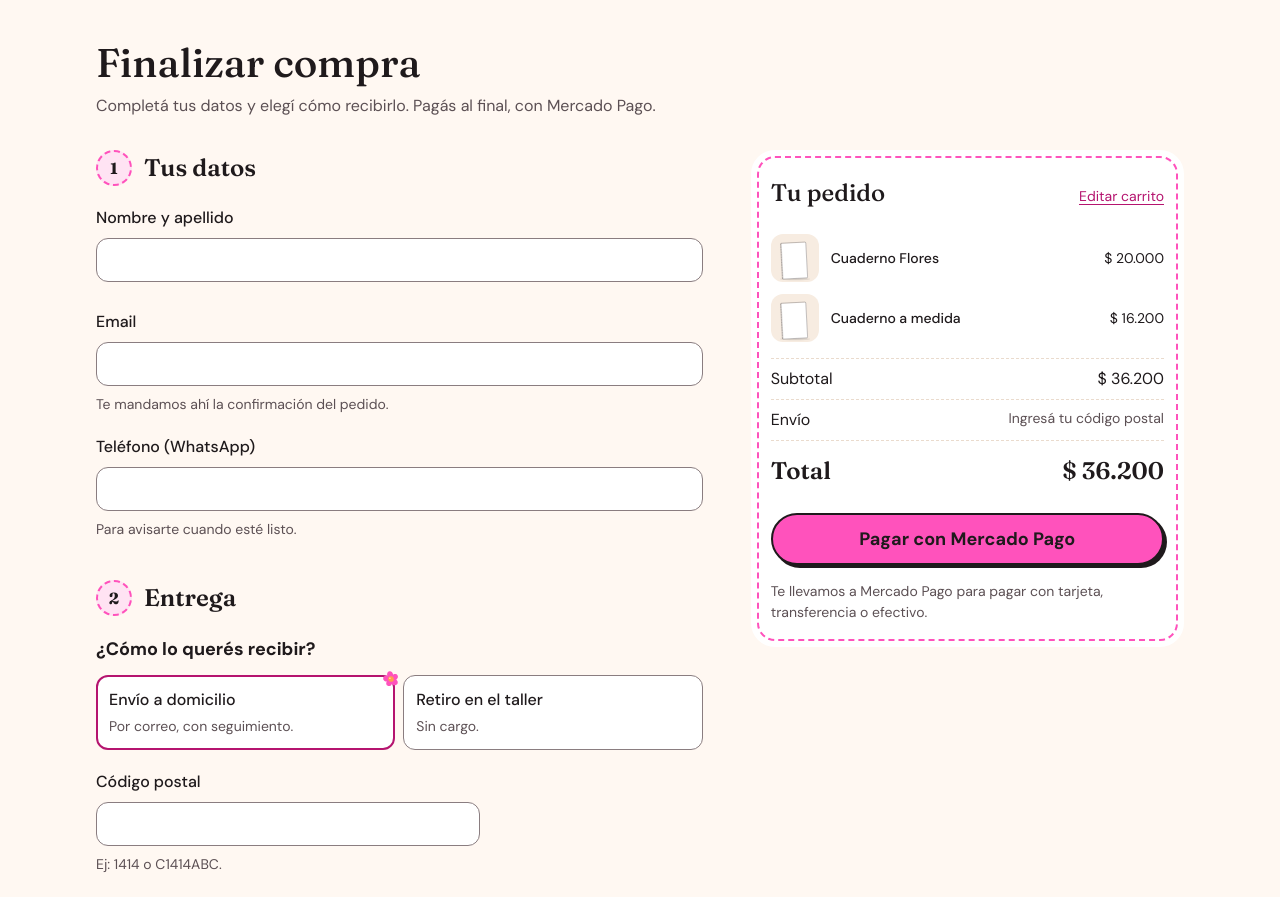
Scenario: CheckoutView › retirar en el taller no cobra envío ni pide dirección
The image size is (1280, 897).
Click the radio button labelled "Retiro en el taller Sin cargo." at (480, 700), box [403,675,703,750]
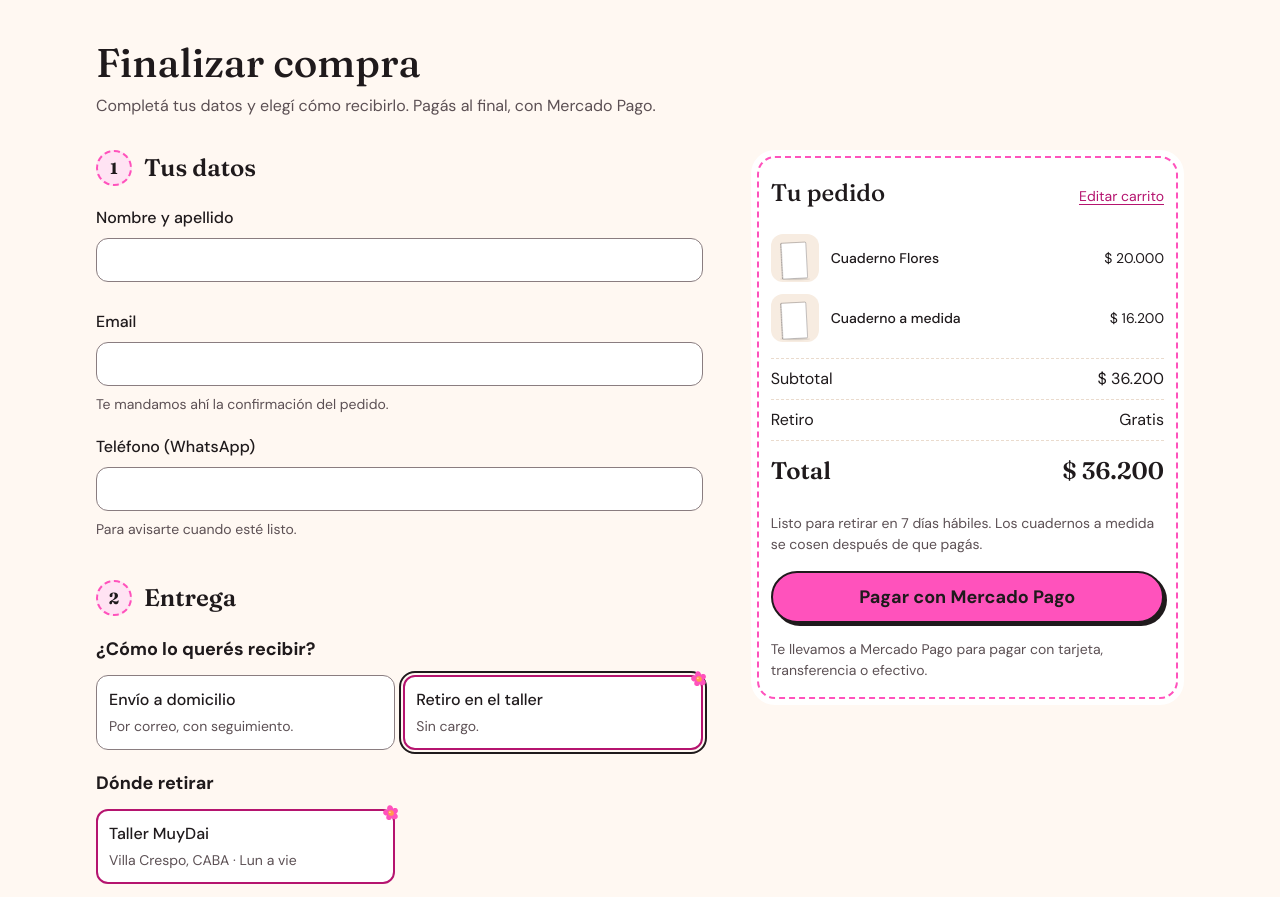
Expected: the label labelled "Calle y número" is not shown
Result: the text "Listo para retirar en 7 días hábiles" is shown at [771,514,991,532]
